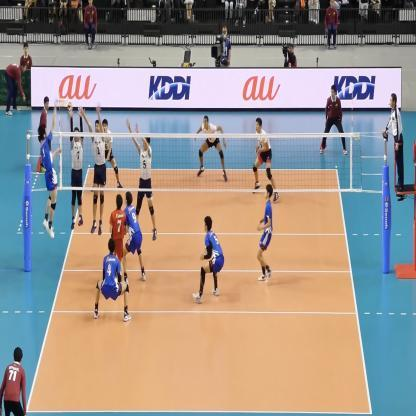spike: (36, 96, 62, 242)
